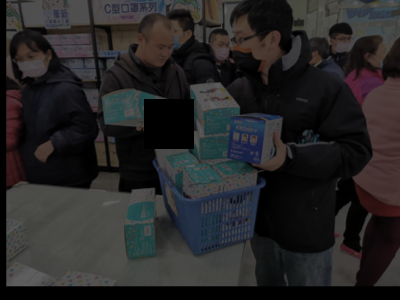with_mask: (231, 30, 267, 79), (14, 50, 49, 79), (214, 38, 231, 63), (334, 34, 354, 52)
without_mask: (144, 41, 175, 68)
